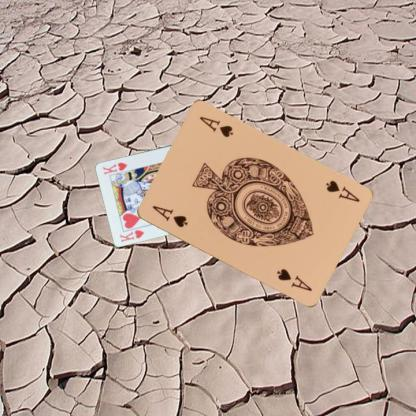As: (149, 203, 189, 229), (323, 178, 361, 204)
Kh: (117, 227, 146, 243)
